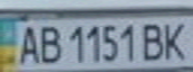1: (118, 20, 142, 62), (63, 21, 87, 62), (81, 21, 103, 62)
5: (100, 21, 121, 63)
A: (12, 22, 42, 65)
B: (139, 20, 169, 62), (36, 22, 63, 65)
K: (160, 18, 193, 61)
